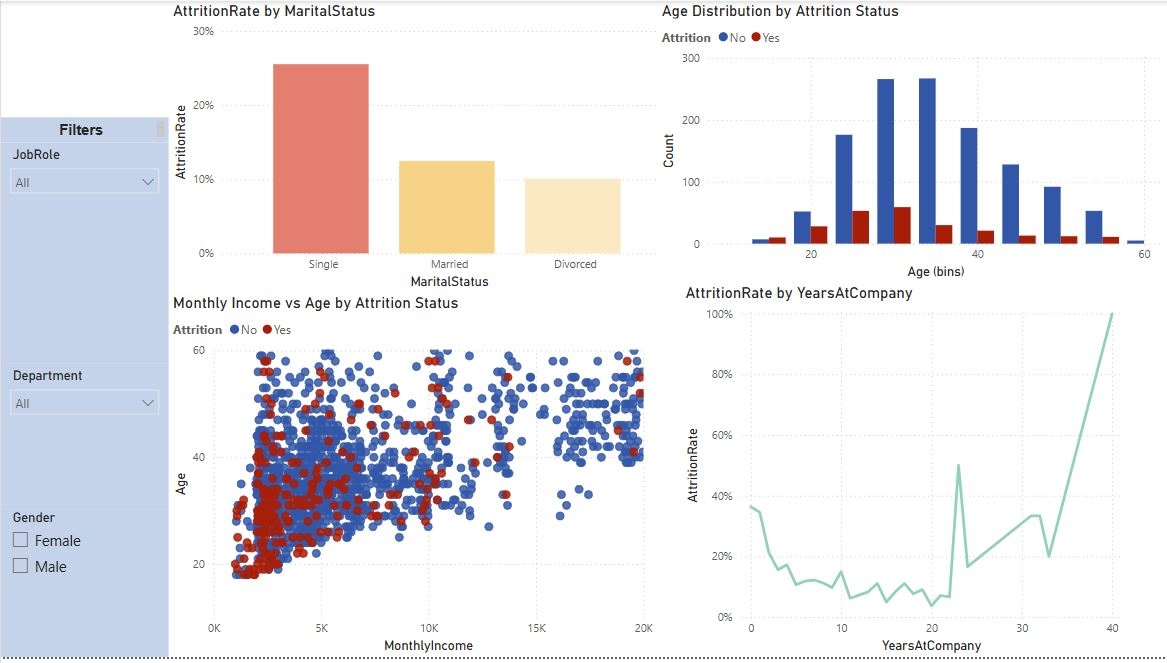

The page's visual inventory and layout, read from the dashboard file:
{"tool":"powerbi","page":{"name":"Demographic Insights","canvas":[1280,720],"ordinal":1},"visuals":[{"type":"lineChart","fields":{"Category":["HR.YearsAtCompany"],"Y":["HR.AttritionRate"]},"box":[746.5,310.1,488.5,410.3],"z":1},{"type":"clusteredColumnChart","fields":{"Y":["HR.AttritionRate"],"Category":["HR.MaritalStatus"]},"box":[183.9,0,562.6,321.1],"z":2},{"type":"scatterChart","title":"Monthly Income vs Age by Attrition Status","fields":{"X":["HR.MonthlyIncome"],"Y":["HR.Age"],"Series":["HR.Attrition"]},"box":[183.9,321.1,536.5,399.3],"z":3},{"type":"clusteredColumnChart","title":"Age Distribution by Attrition Status","fields":{"Category":["HR.Age (bins)"],"Y":["CountNonNull(HR.Index)"],"Series":["HR.Attrition"]},"box":[720.4,0,559.9,310.1],"z":4},{"type":"slicer","fields":{"Values":["HR.JobRole"]},"box":[0,155.1,183.9,242.9],"z":5},{"type":"slicer","fields":{"Values":["HR.Department"]},"box":[0,397.9,183.9,155.1],"z":6},{"type":"slicer","fields":{"Values":["HR.Gender"]},"box":[0,553,183.9,167.4],"z":7},{"type":"textbox","box":[0,127.6,183.9,27.4],"z":8}]}

Visuals, with their boxes in screenshot pixels (x1, y1, x2, y2), scaled from the page's 1280x720 canvas onto the 1167x663 screenshot:
lineChart - HR.YearsAtCompany x HR.AttritionRate: (left=681, top=286, right=1126, bottom=662)
clusteredColumnChart - HR.AttritionRate x HR.MaritalStatus: (left=168, top=0, right=681, bottom=296)
"Monthly Income vs Age by Attrition Status" scatterChart: (left=168, top=296, right=657, bottom=662)
"Age Distribution by Attrition Status" clusteredColumnChart: (left=657, top=0, right=1166, bottom=286)
slicer - HR.JobRole: (left=0, top=143, right=168, bottom=366)
slicer - HR.Department: (left=0, top=366, right=168, bottom=509)
slicer - HR.Gender: (left=0, top=509, right=168, bottom=662)
textbox: (left=0, top=117, right=168, bottom=143)
